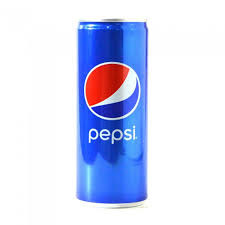pepsi: (77, 21, 149, 206)
